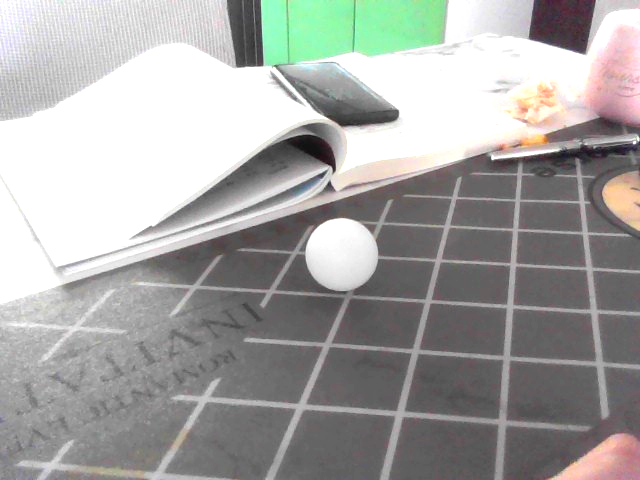ball: (304, 219, 381, 290)
